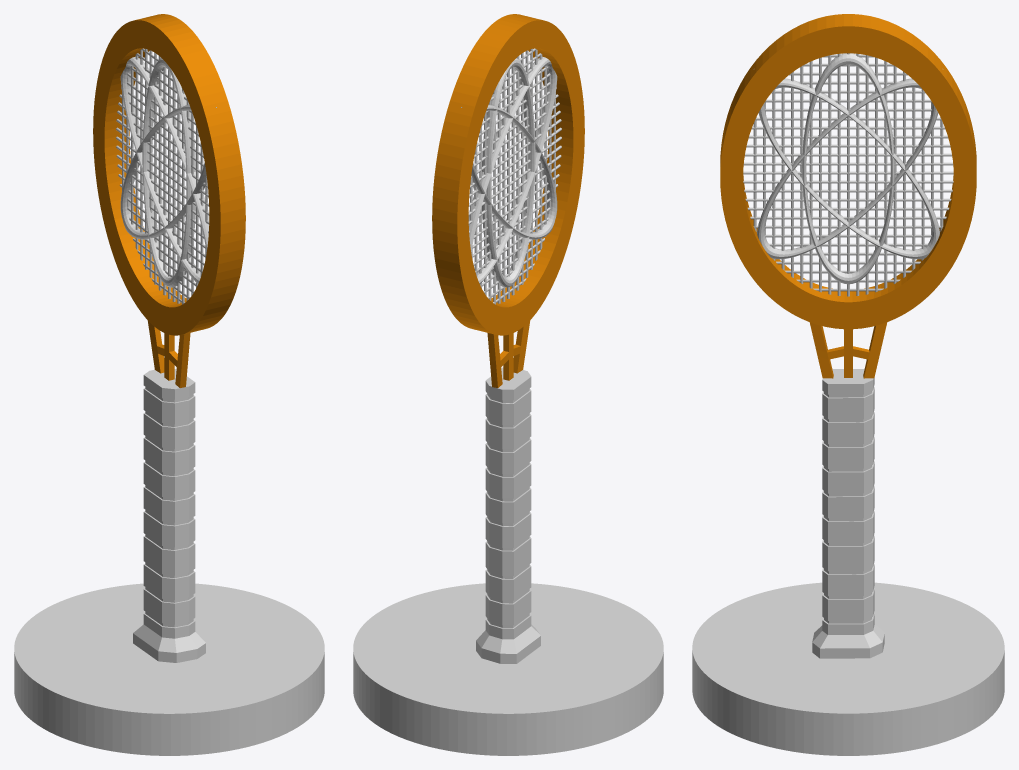
The model's file is Swatter Chess.glb.
3 views of the same model, side by side, from view 1: azimuth 30°, elevation 25°; view 2: azimuth 150°, elevation 25°; view 3: azimuth 270°, elevation 25° (orthographic).
Visible parts, largest first — view 1: Cylinder.003, Circle, Cylinder.002, Cylinder, Torus.001, Cylinder.001, Torus; view 2: Cylinder.003, Circle, Cylinder.002, Cylinder, Torus.001, Cylinder.001, Torus; view 3: Cylinder.003, Circle, Cylinder.002, Cylinder.001, Cylinder, Torus.001, Torus.
Boxes of the visible parts, x1,y1,x2,y2 form: Cylinder.003: (14, 583, 324, 755); Circle: (93, 14, 245, 387); Cylinder.002: (133, 369, 205, 662); Cylinder: (122, 48, 216, 304); Torus.001: (120, 56, 209, 283); Cylinder.001: (116, 48, 209, 303); Torus: (142, 58, 195, 287); Cylinder.003: (353, 583, 663, 755); Circle: (432, 14, 584, 387); Cylinder.002: (476, 367, 540, 663); Cylinder: (461, 48, 555, 304); Torus.001: (468, 56, 557, 283); Cylinder.001: (468, 48, 561, 303); Torus: (482, 58, 535, 287); Cylinder.003: (692, 582, 1004, 755); Circle: (720, 14, 976, 378); Cylinder.002: (812, 369, 884, 658); Cylinder.001: (743, 54, 953, 291); Cylinder: (753, 53, 943, 296); Torus.001: (757, 78, 939, 259); Torus: (802, 53, 894, 284).
Bounding box in the file's own units: 2.14 × 5.06 × 2.14.
